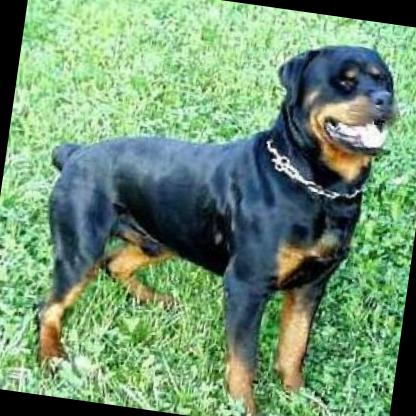Rottweiler: (15, 2, 406, 416)
